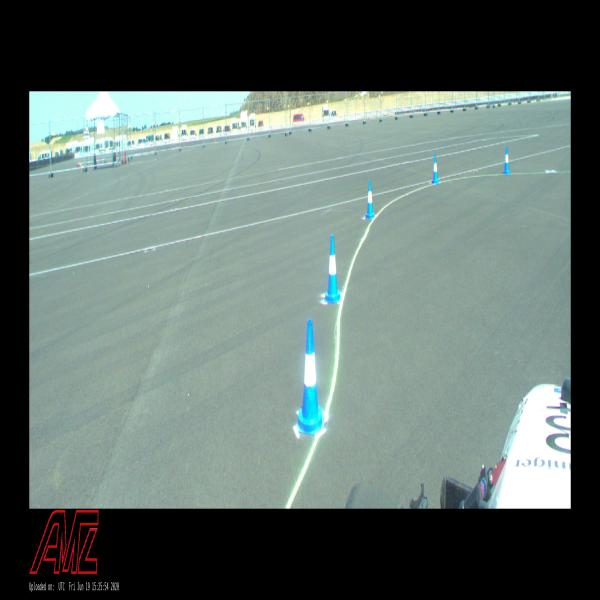blue_cone: (296, 319, 324, 435), (324, 235, 341, 302), (365, 180, 375, 218), (432, 154, 439, 184), (503, 146, 510, 175)
